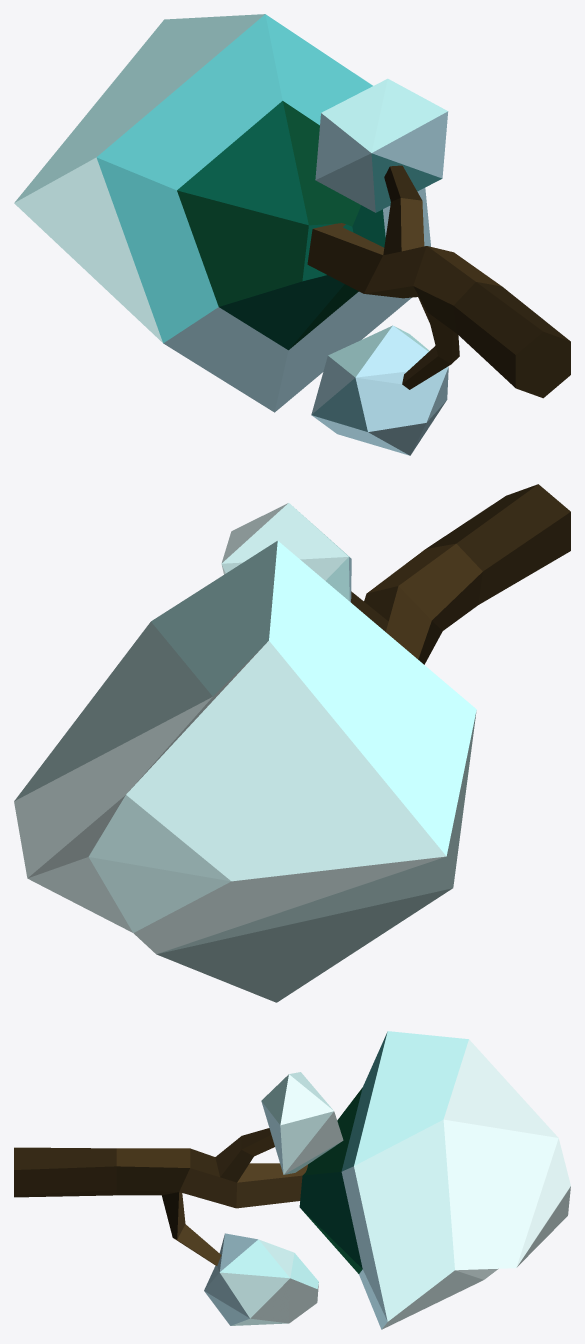
The model's file is winter_tree_4.fbx.
The picture shows the model from 3 angles, top to bottom: view 1: azimuth 30°, elevation 25°; view 2: azimuth 150°, elevation 25°; view 3: azimuth 270°, elevation 25°; orthographic projection. The views are drawn at different scales.
Parts seen in each view (by area): view 1: winter_tree_4; view 2: winter_tree_4; view 3: winter_tree_4.
Part boxes in pixels (bbox=[...]): winter_tree_4: bbox=[14, 14, 570, 455]; winter_tree_4: bbox=[14, 484, 570, 1002]; winter_tree_4: bbox=[14, 1031, 570, 1329].
Bounding box in the file's own units: 86.05 × 86.7 × 147.
